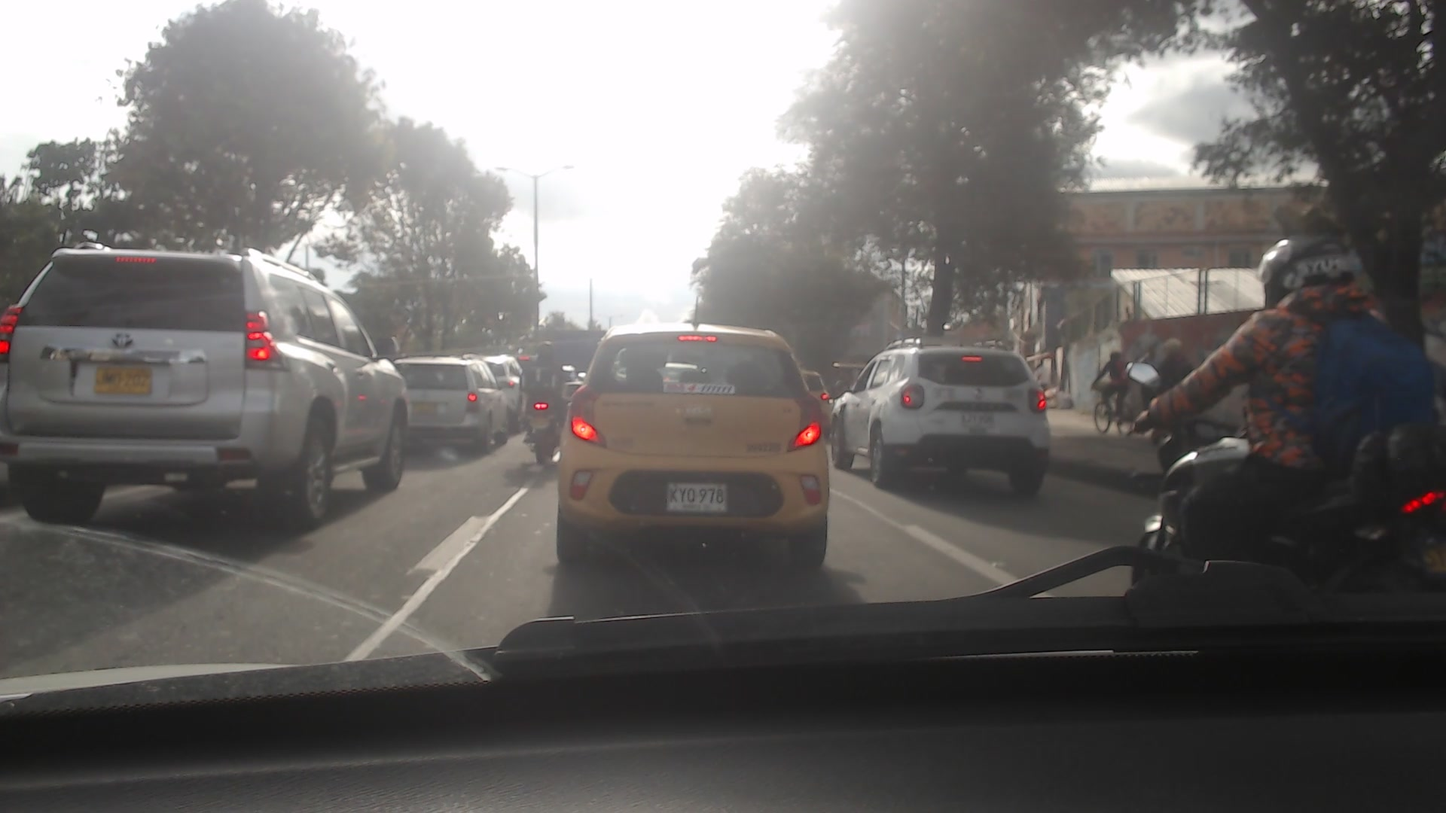car: (4, 241, 411, 503), (558, 321, 836, 568), (825, 341, 1059, 490), (387, 350, 500, 454)
motorcycle: (1136, 386, 1446, 632), (526, 395, 568, 465)
person: (1185, 235, 1416, 517), (526, 345, 565, 459), (1100, 350, 1130, 421)
